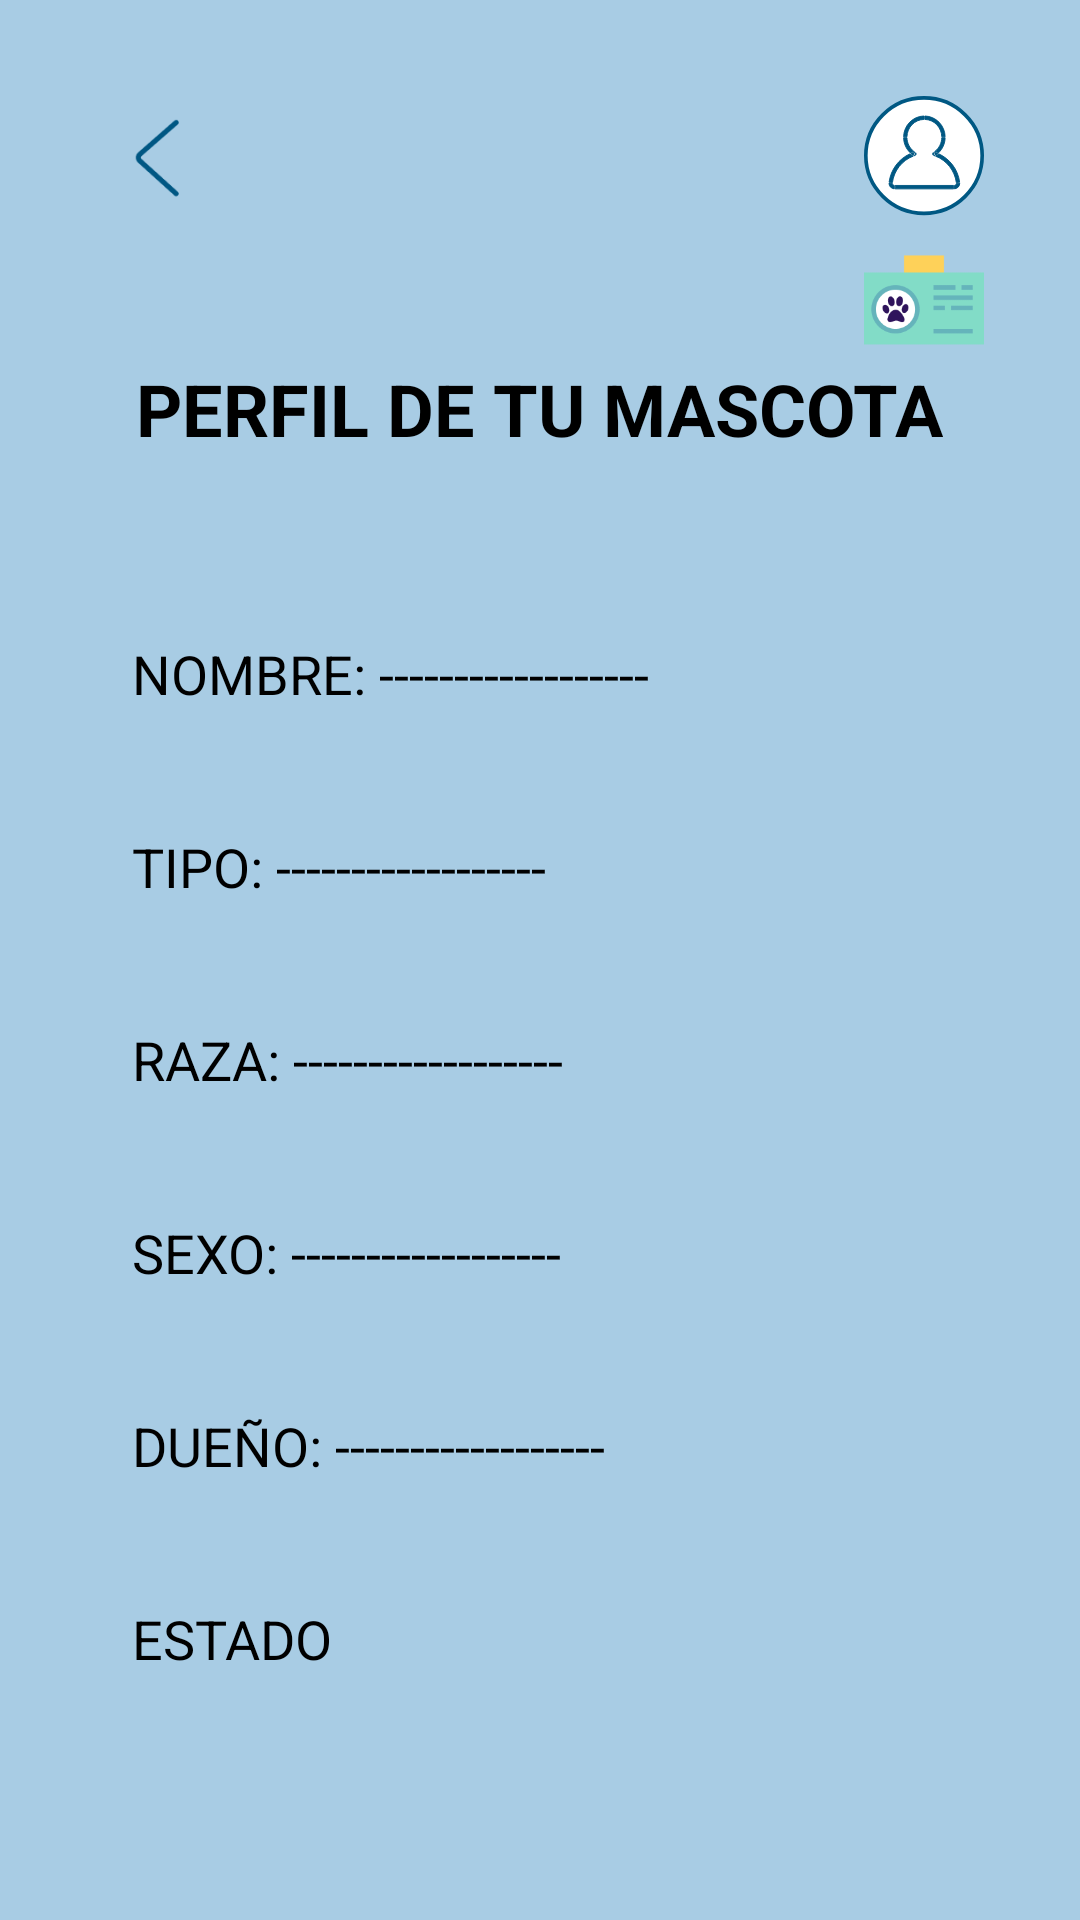

Where icons sit on this 1080 x 1920 app screen, as (x1, y1, x2, y2):
Botón de atrás: (135, 120, 179, 197)
Ícono de tarjeta: (864, 255, 984, 344)
